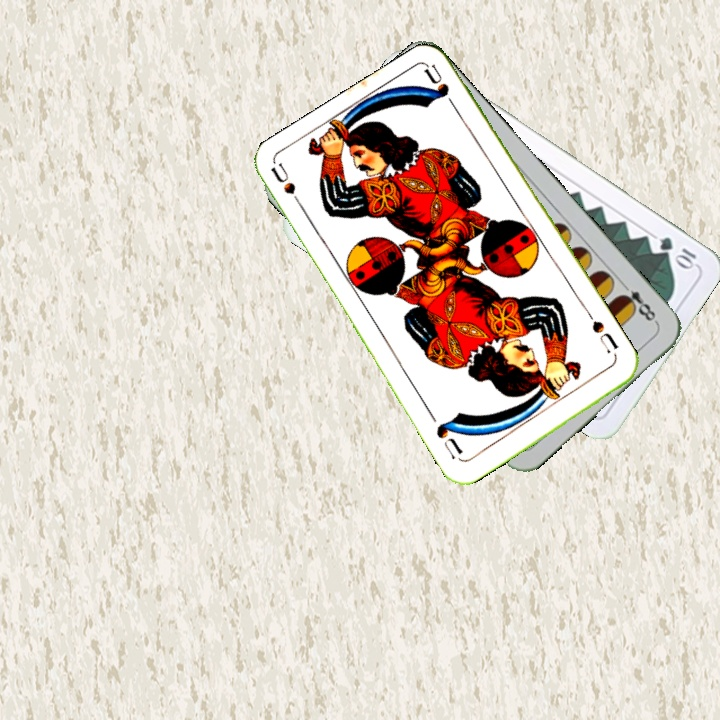E8: (615, 278, 660, 326)
G10: (655, 232, 699, 271)
SU: (268, 160, 309, 216), (587, 316, 621, 356)
